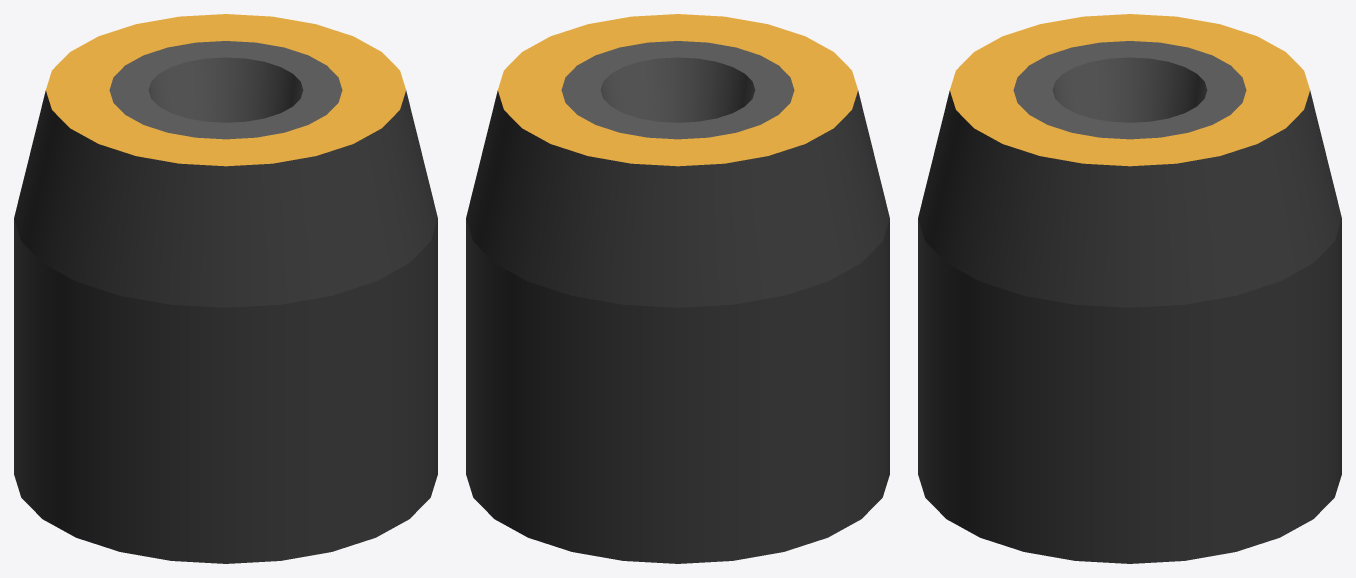
Rendered from wheelRacing.glb.
The picture shows the model from 3 angles, left to right: view 1: azimuth 30°, elevation 25°; view 2: azimuth 150°, elevation 25°; view 3: azimuth 270°, elevation 25°; orthographic projection.
Visible parts, largest first — view 1: wheelRacing; view 2: wheelRacing; view 3: wheelRacing.
Boxes of the visible parts, left/top/right/bottom form: wheelRacing: left=14, top=14, right=437, bottom=563; wheelRacing: left=466, top=14, right=889, bottom=563; wheelRacing: left=918, top=14, right=1341, bottom=563.
Size of the model in its own units: 1 by 1 by 1.
